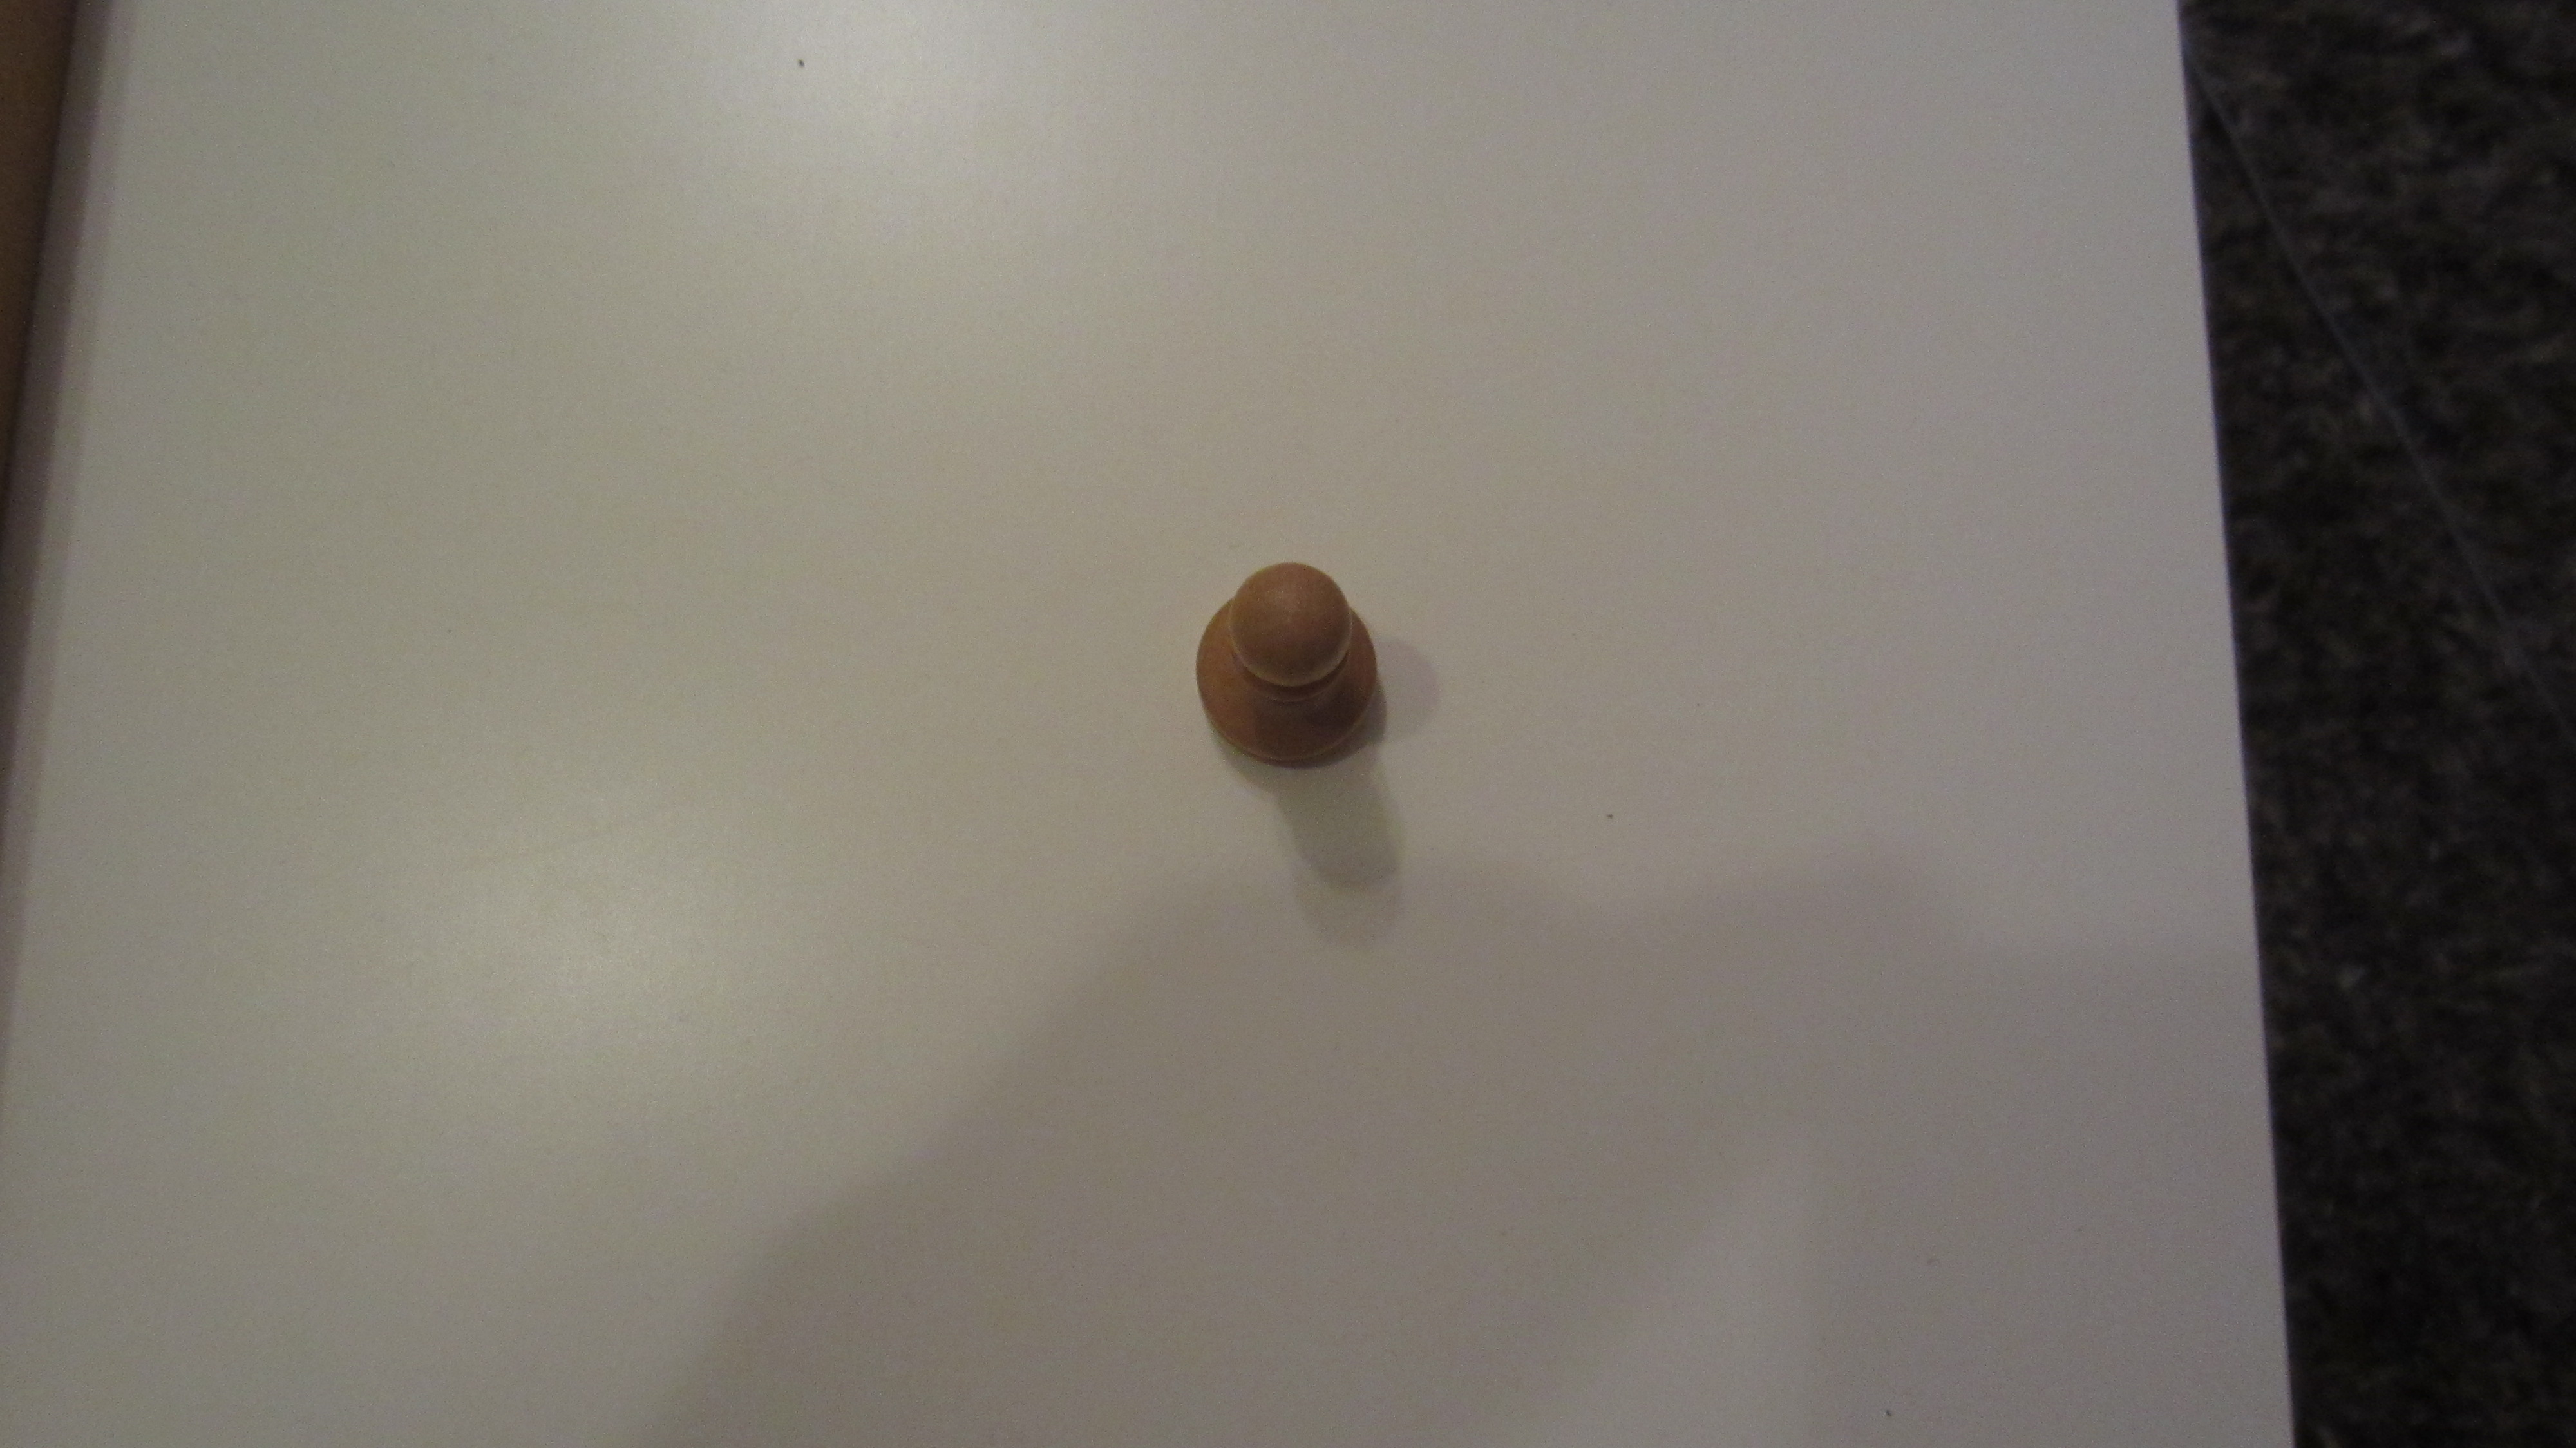white-pawn: (1187, 554, 1391, 766)
